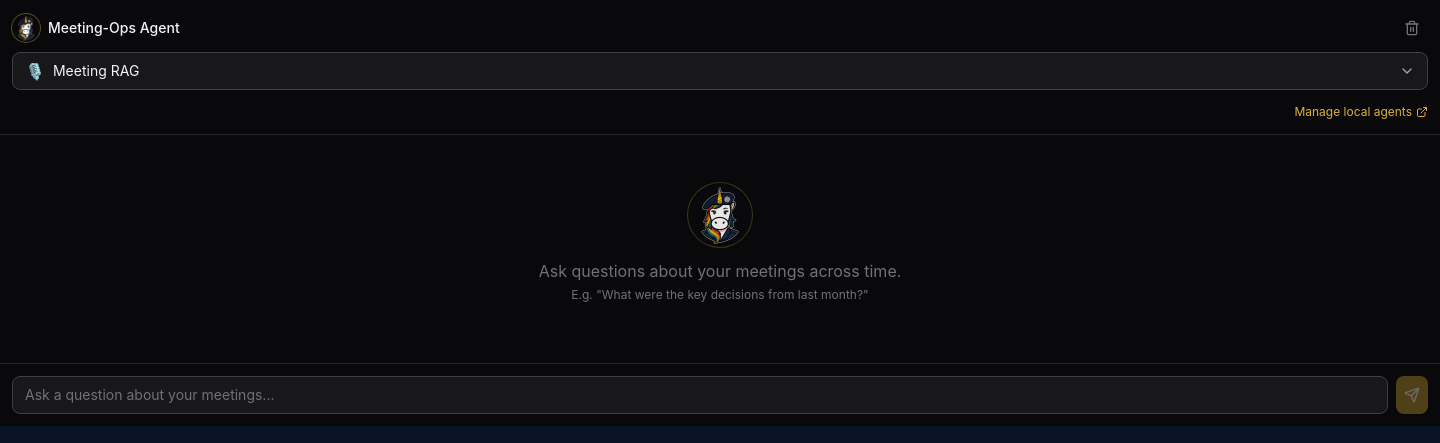
Scenario: RAGChat › renders citations as clickable session links after streaming completes
The image size is (1440, 443).
Type "Cite something." into the field with placeholder "Ask a question about your meetings..." at (700, 395), box top-left (12, 376), bottom-right (1388, 414)
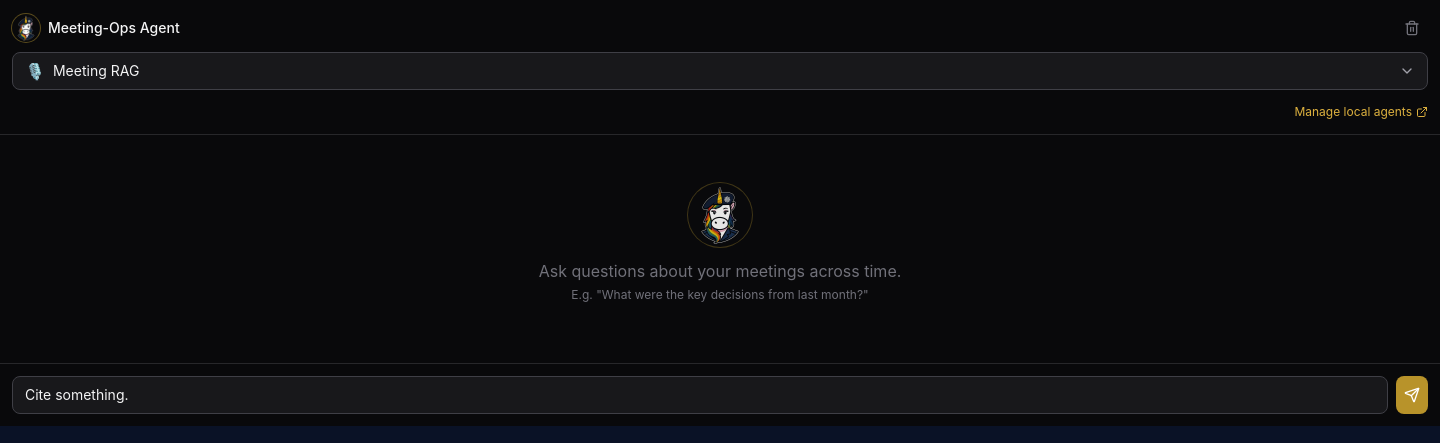
Press Enter in the field with placeholder "Ask a question about your meetings...", box top-left (12, 376), bottom-right (1388, 414)
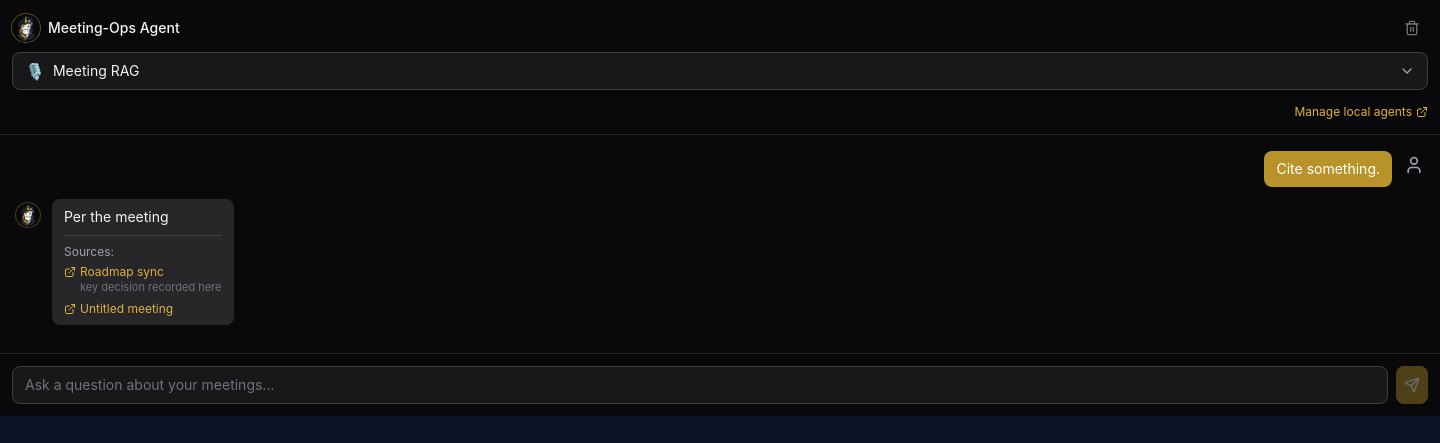
Expected: the link "Roadmap sync" is shown, top-left (64, 264), bottom-right (164, 279)
Expected: the text "key decision recorded here" is shown, top-left (80, 280), bottom-right (222, 295)
